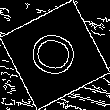O_E: (24, 26, 86, 84)
